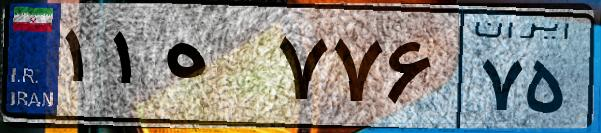1: (57, 26, 110, 100), (110, 28, 158, 98)
5: (525, 38, 570, 115)
6: (385, 28, 445, 110)
7: (270, 28, 330, 110), (330, 28, 385, 110), (475, 38, 525, 113)
ه: (158, 20, 270, 120)
